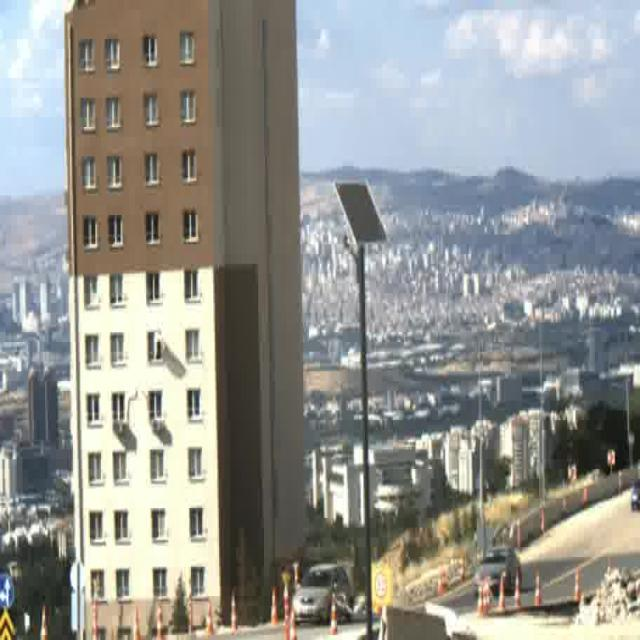Car: (294, 561, 358, 624), (474, 552, 522, 596), (629, 472, 640, 511)
